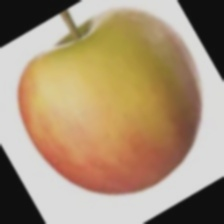apple: (28, 34, 193, 189)
